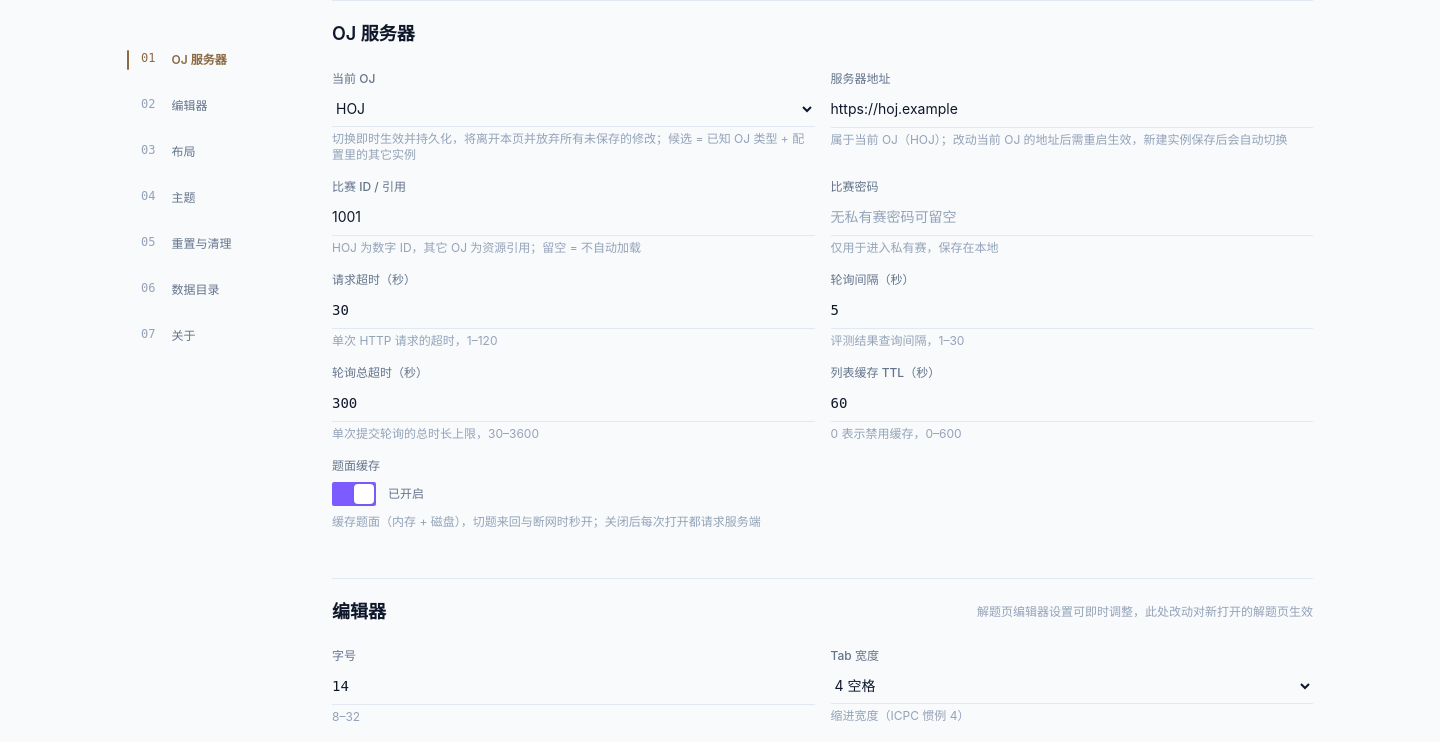
Test case: SettingsView 行为表征（结构拆分前） › 已配置 OJ 切换失败：回滚下拉且不清会话、不导航
Check: the label "当前 OJ 切换即时生效并持久化，将离开本页并放弃所有未保存的修改；候选 = 已知 OJ 类型 + 配置里的其它实例" is shown, box 332,71 -> 814,163
Select "Hydro" in the dropdown labelled "当前 OJ 切换即时生效并持久化，将离开本页并放弃所有未保存的修改；候选 = 已知 OJ 类型 + 配置里的其它实例". click: {"x": 573, "y": 109}
box: 332,91 -> 814,127
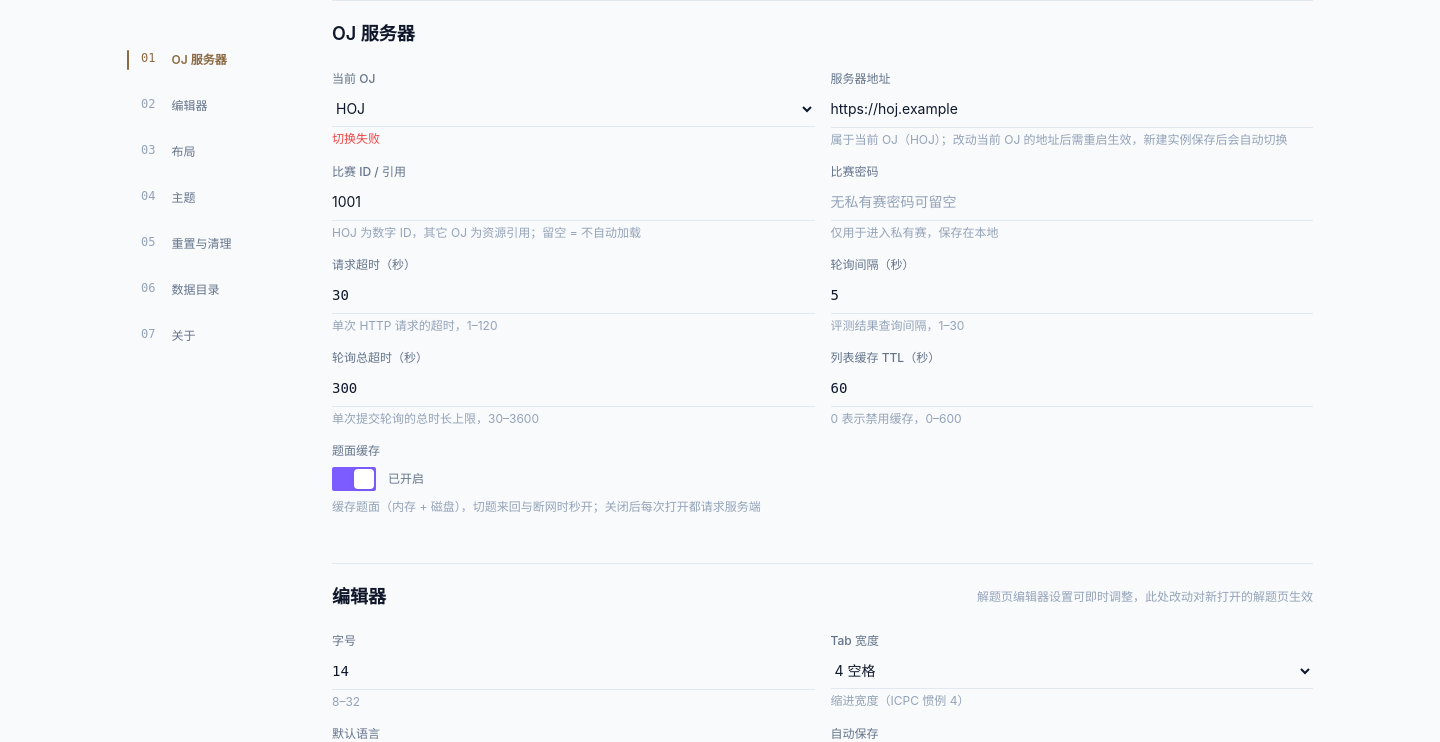
Check: the text "切换失败" is shown, box 332,131 -> 380,146
